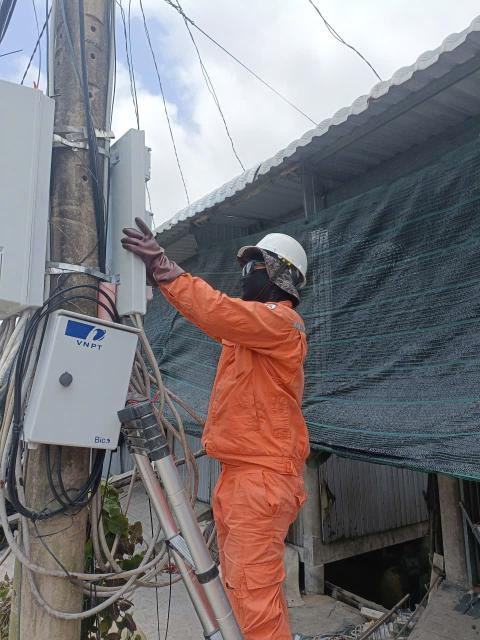gloves: (121, 219, 191, 294)
helmet: (227, 222, 326, 290)
